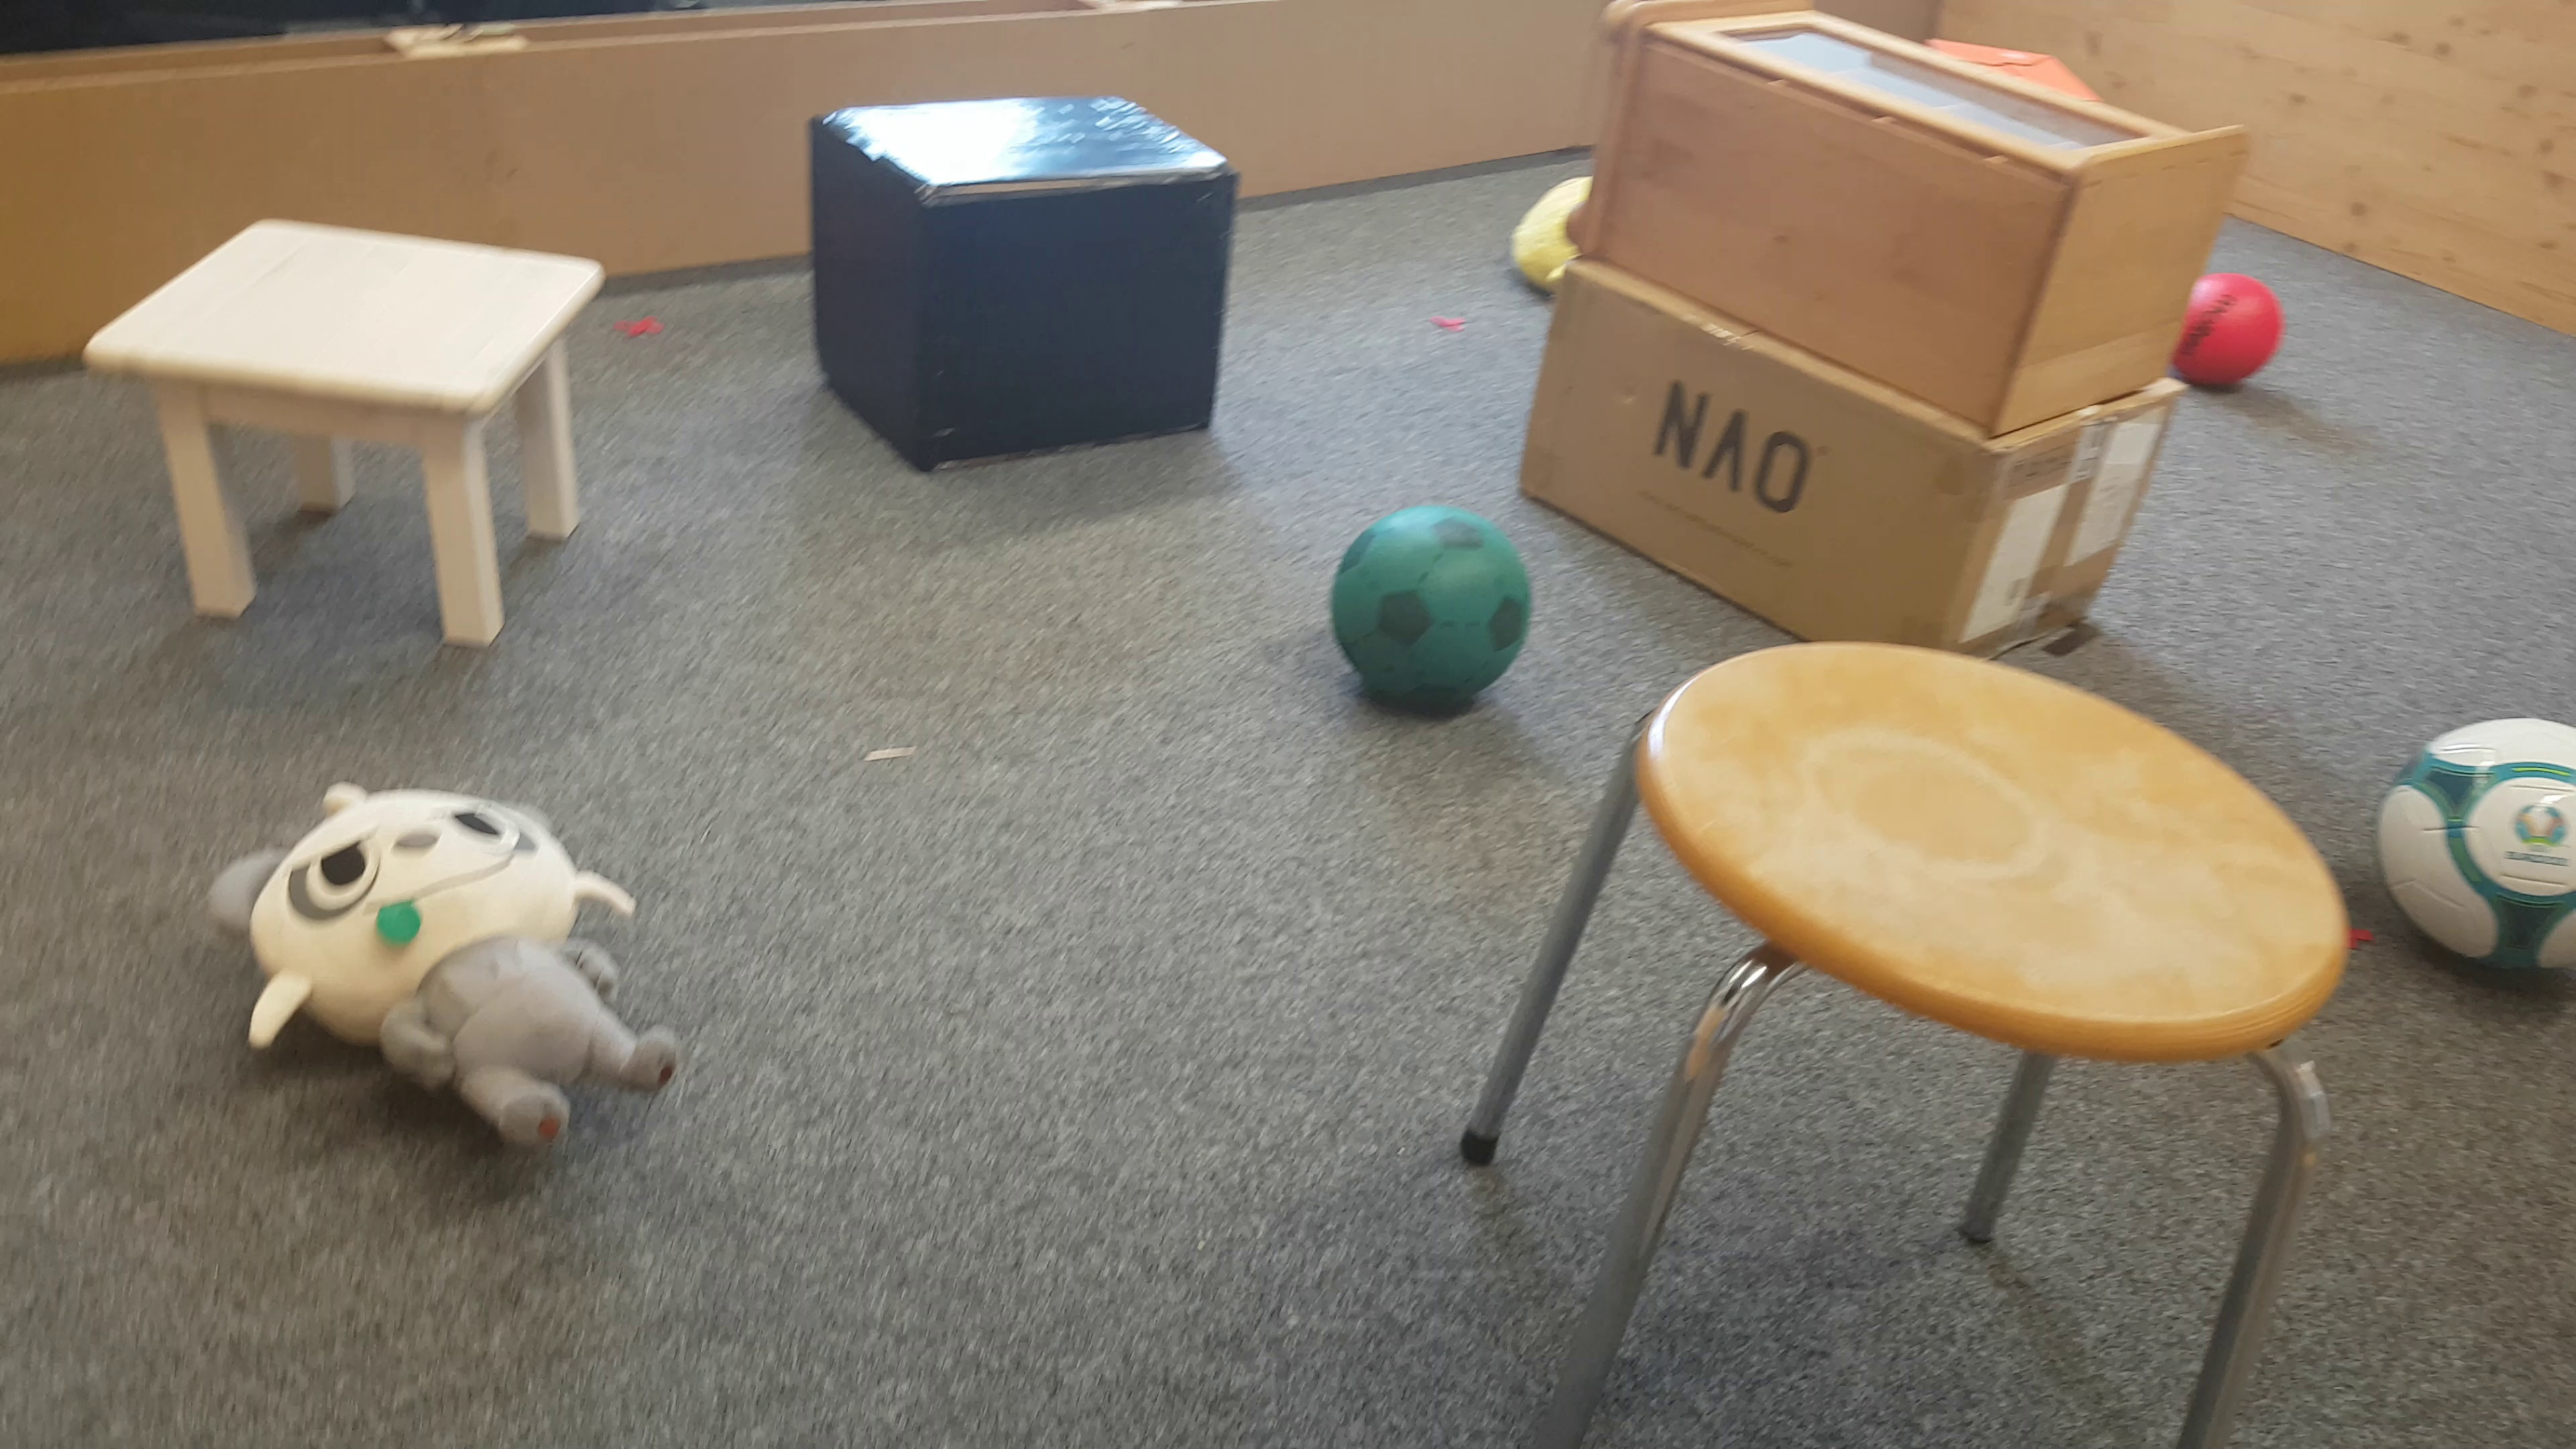grasp: (211, 786, 686, 1146), (1514, 161, 1582, 290)
kick: (2376, 708, 2576, 977), (1339, 506, 1530, 718), (2192, 274, 2279, 393)
push: (809, 88, 1238, 476)
